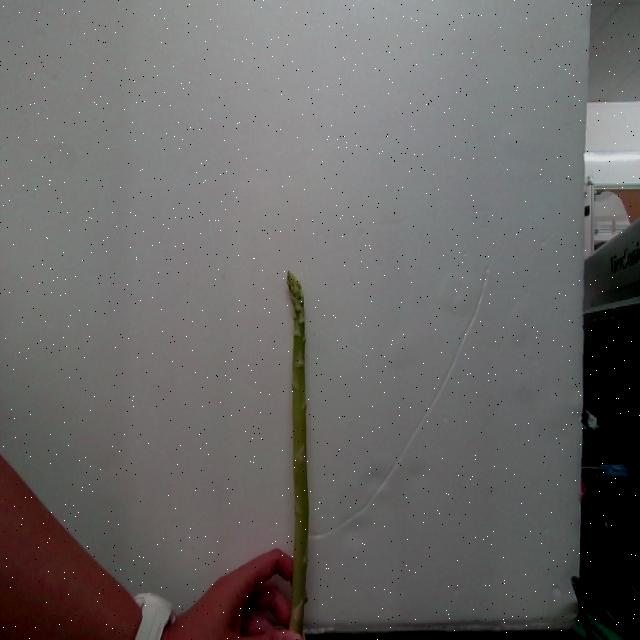aspargus: (287, 274, 310, 636)
